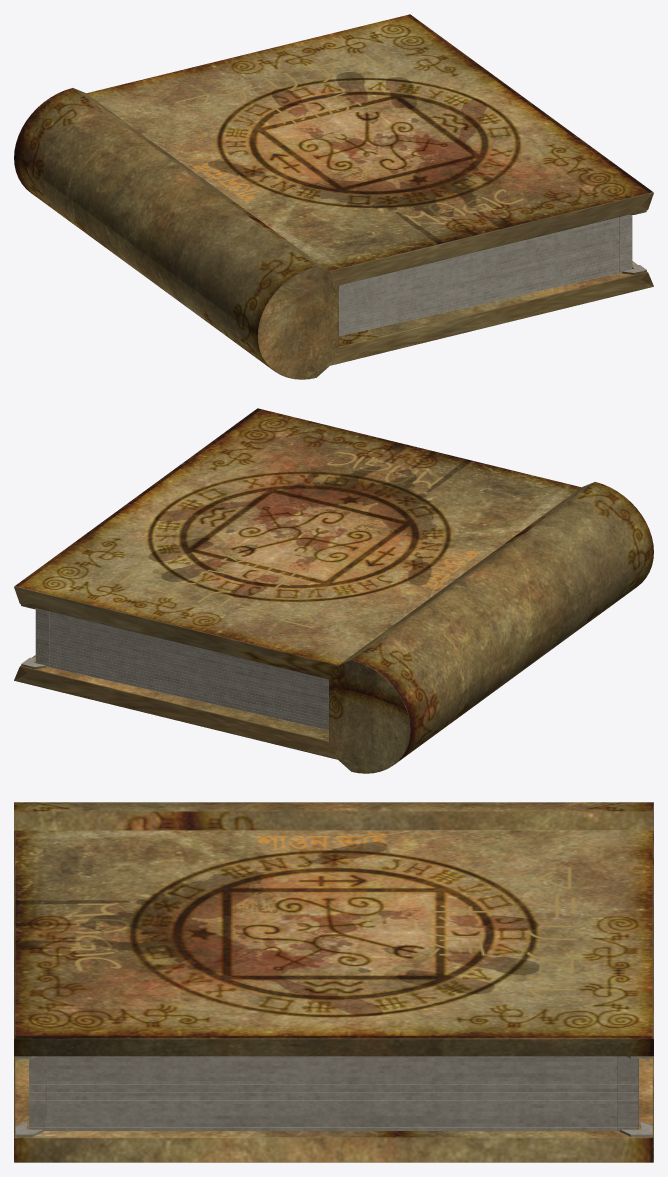
The model's file is SkillBook.glb.
3 renders of one model, top to bottom at view 1: azimuth 30°, elevation 25°; view 2: azimuth 150°, elevation 25°; view 3: azimuth 270°, elevation 25°, orthographic. The views are drawn at different scales.
Parts seen in each view (by area): view 1: pCube1; view 2: pCube1; view 3: pCube1.
Boxes of the visible parts, left/top/right/bottom form: pCube1: left=14, top=14, right=653, bottom=379; pCube1: left=14, top=408, right=653, bottom=773; pCube1: left=14, top=802, right=653, bottom=1162.
Size of the model in its own units: 0.0995 by 0.0268 by 0.106.
Materials: 1 (1 with a texture image).
